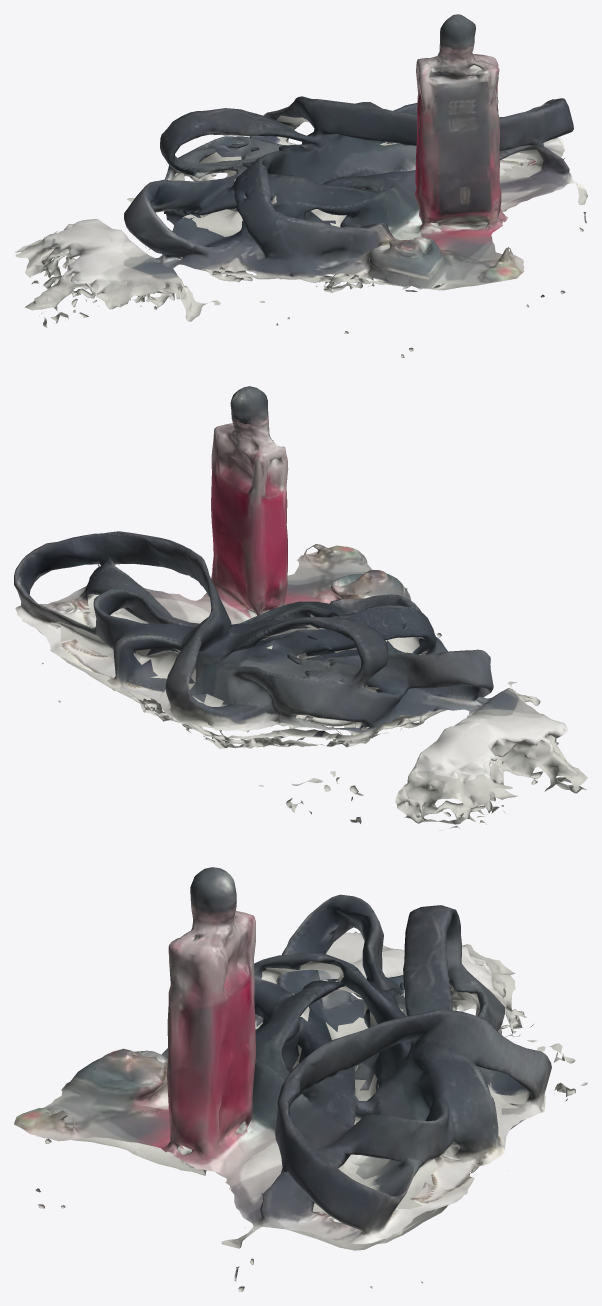
Rendered from locket_quatrafoil_perfume.glb.
3 renders of one model, top to bottom at view 1: azimuth 30°, elevation 25°; view 2: azimuth 150°, elevation 25°; view 3: azimuth 270°, elevation 25°, orthographic. The views are drawn at different scales.
Size of the model in its own units: 2.09 by 1.02 by 1.47.
Materials: 4 (4 with a texture image).
